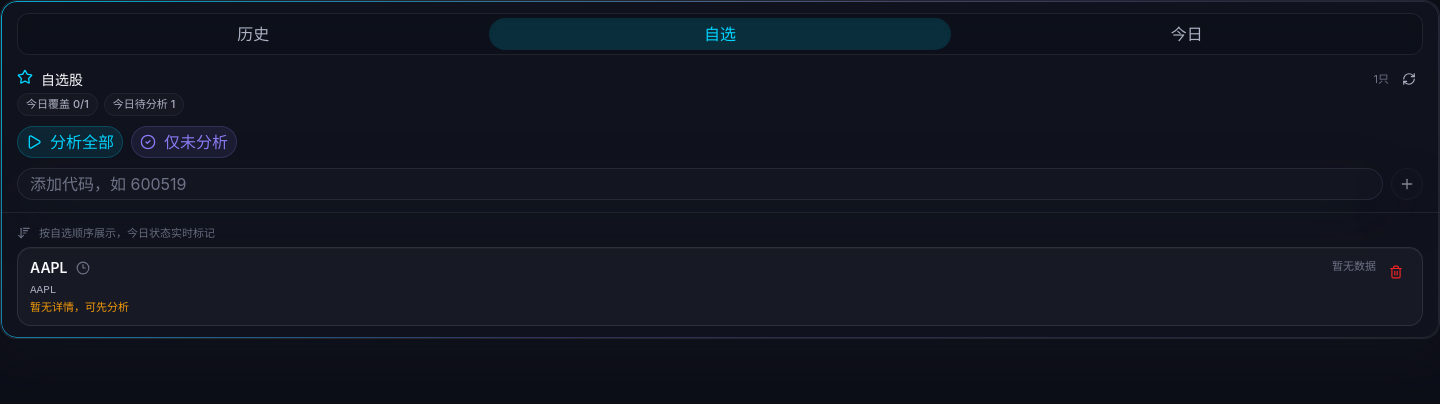
Scenario: HomeStockWorkspace › shows an explicit notice when a watchlist row has no detail yet
What coordinates should you click on to do the following:
click the button with aria-label "暂无 AAPL 的分析详情，可先分析"
I would click on:
 (49, 268)
Its box is x1=30 y1=258 x2=1324 y2=315.
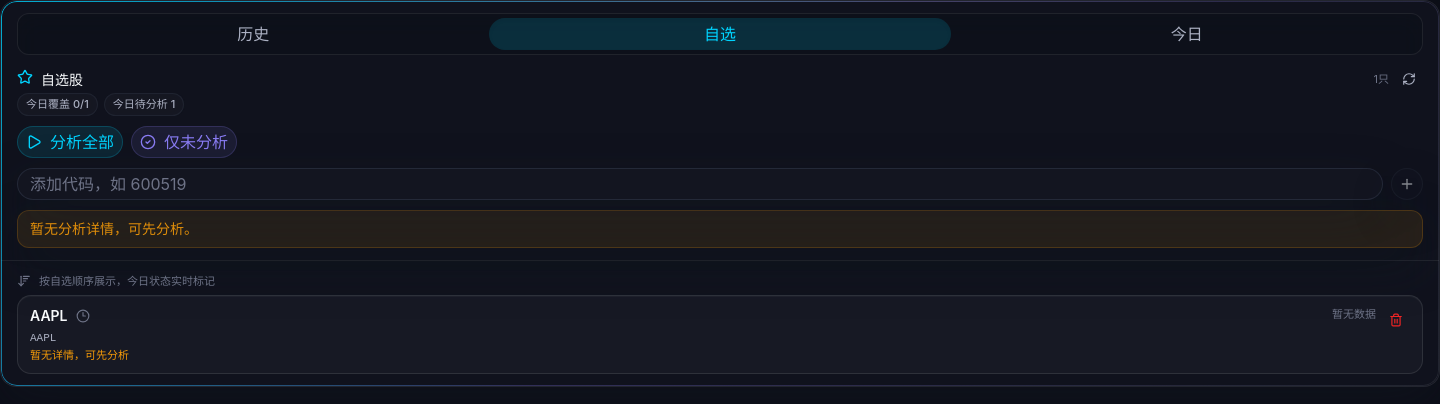
expect the message reads "暂无分析详情，可先分析。": met, box x1=30 y1=220 x2=198 y2=236
